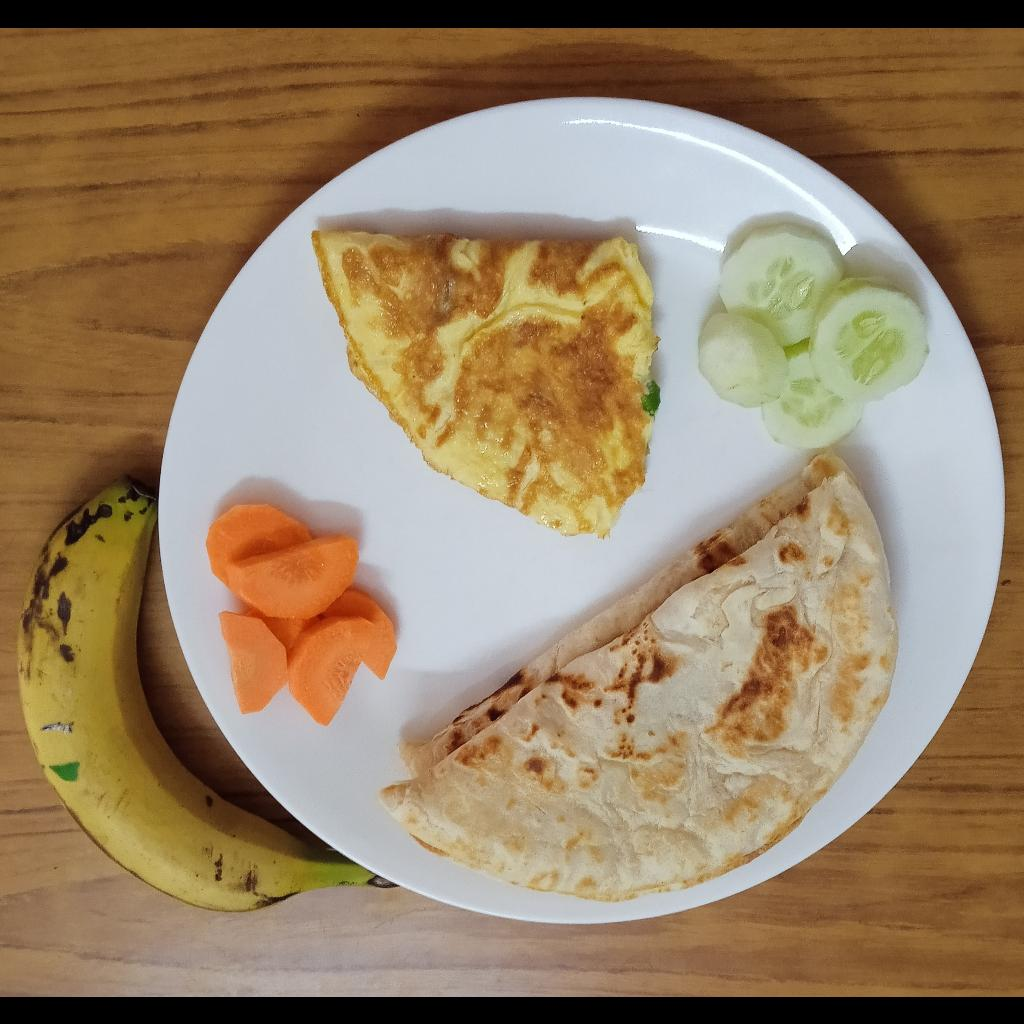banana: (18, 472, 401, 912)
carrot: (205, 503, 397, 726)
cucumber: (698, 223, 931, 448)
egg-poached: (313, 229, 661, 538)
ruti: (374, 448, 900, 904)
